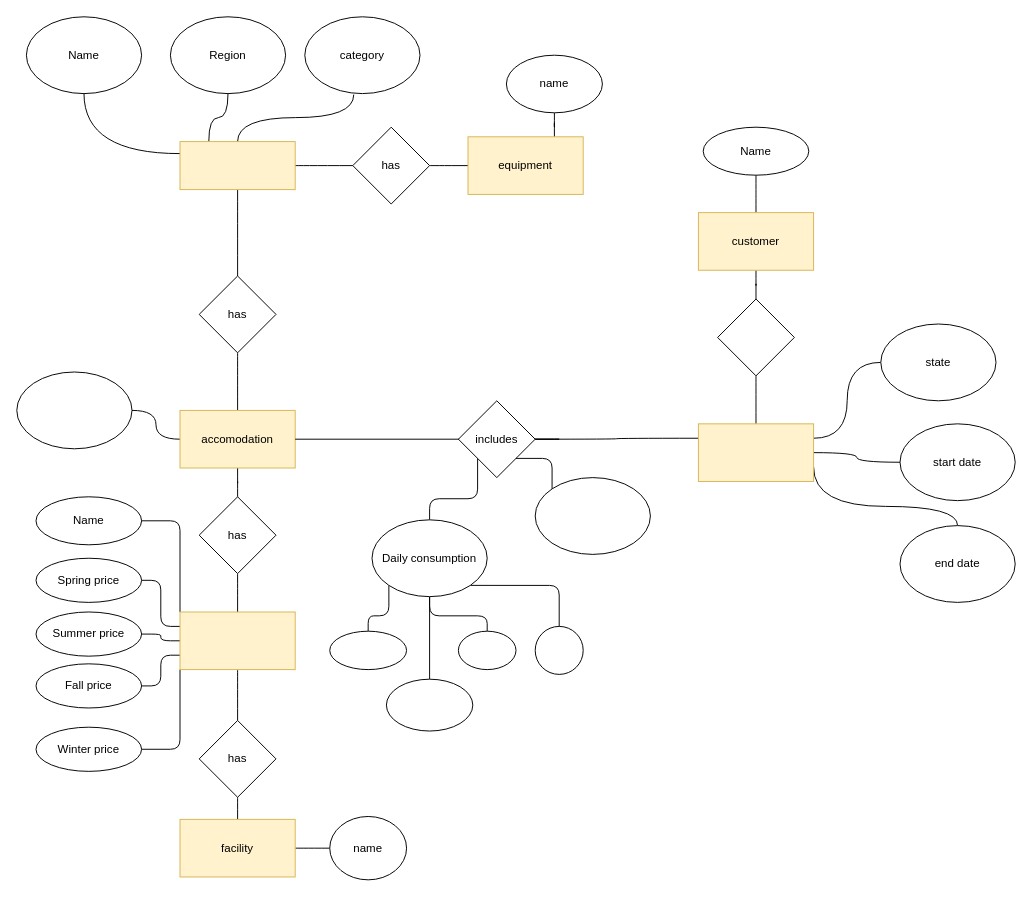
Image size: 1032x897. Some labels were removed from this diagram. Here are the shapes that lost their labels. From the top down, the centre of each, then its label:
At [237,165]: "Hotel".
At [755,337]: "place".
At [74,410]: "capacity".
At [755,452]: "order".
At [592,515]: "number of guests".
At [237,640]: "type".
At [368,650]: "TV channels".
At [486,650]: "snacks".
At [558,649]: "Drinks".
At [429,704]: "Date".
